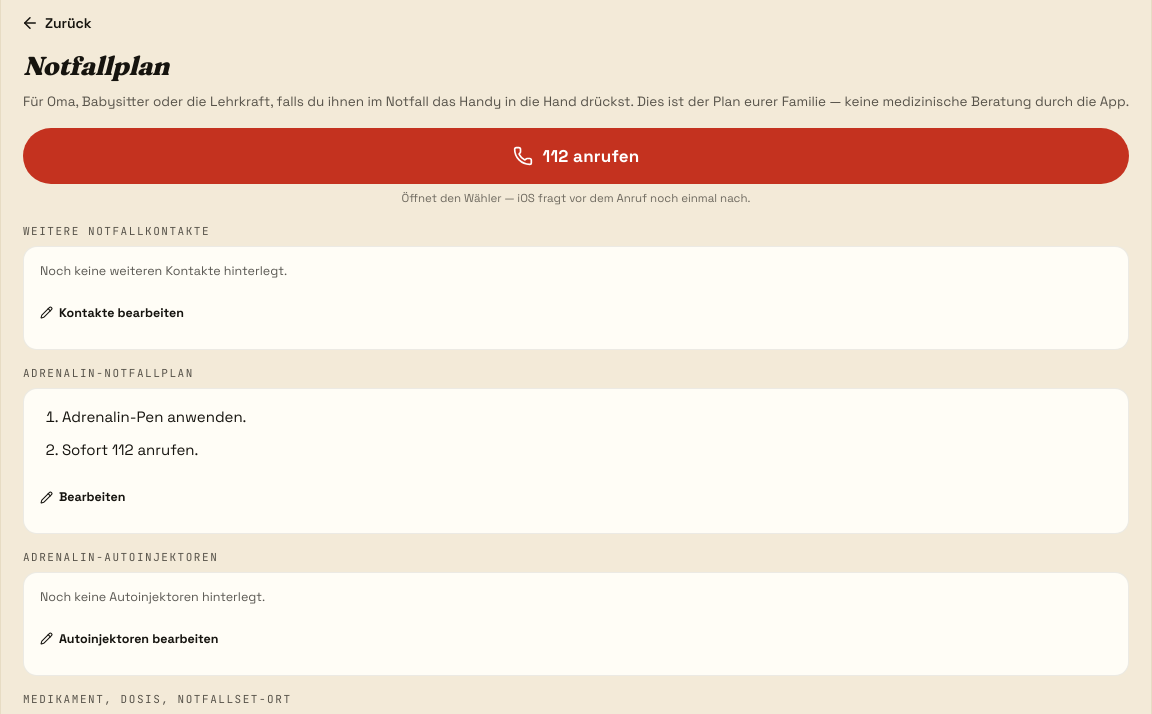
Scenario: EmergencyScreen (F4) › 'Vorlage einsetzen' resets the draft back to the default template
The width and height of the screenshot is (1152, 714).
Click the button with aria-label "Notfallplan bearbeiten" at {"x": 83, "y": 497}, box 40,475 -> 126,519
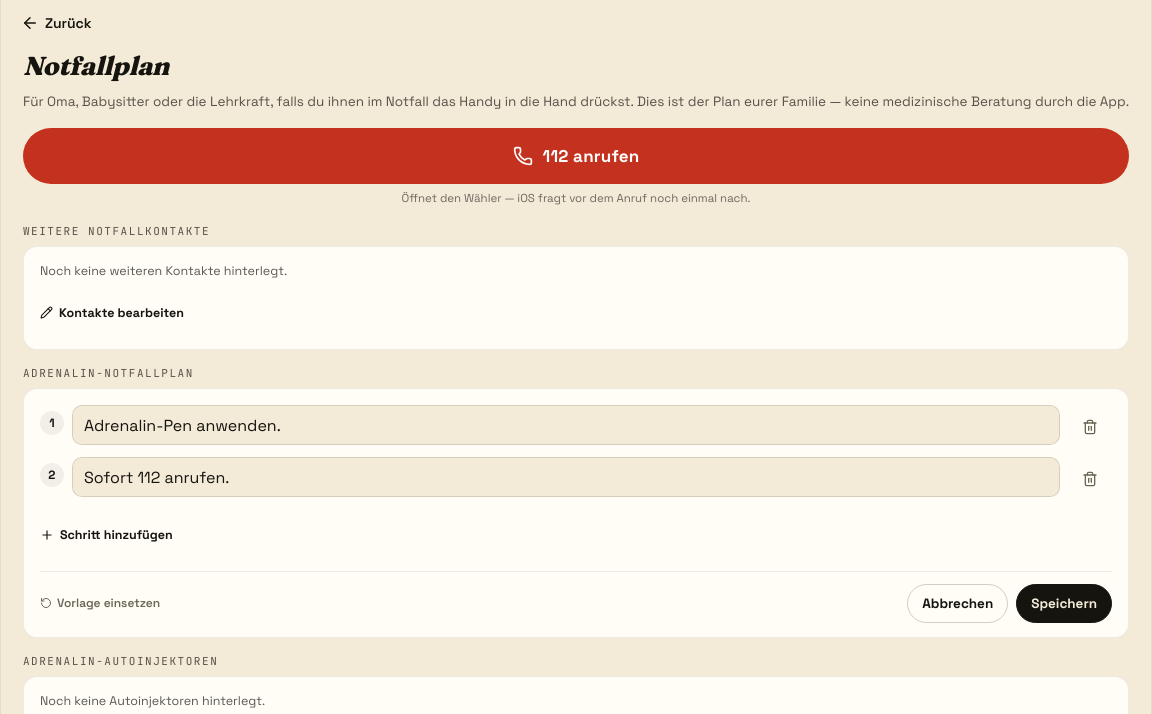
Click the button "Vorlage einsetzen" at {"x": 100, "y": 603}, box 40,589 -> 160,617
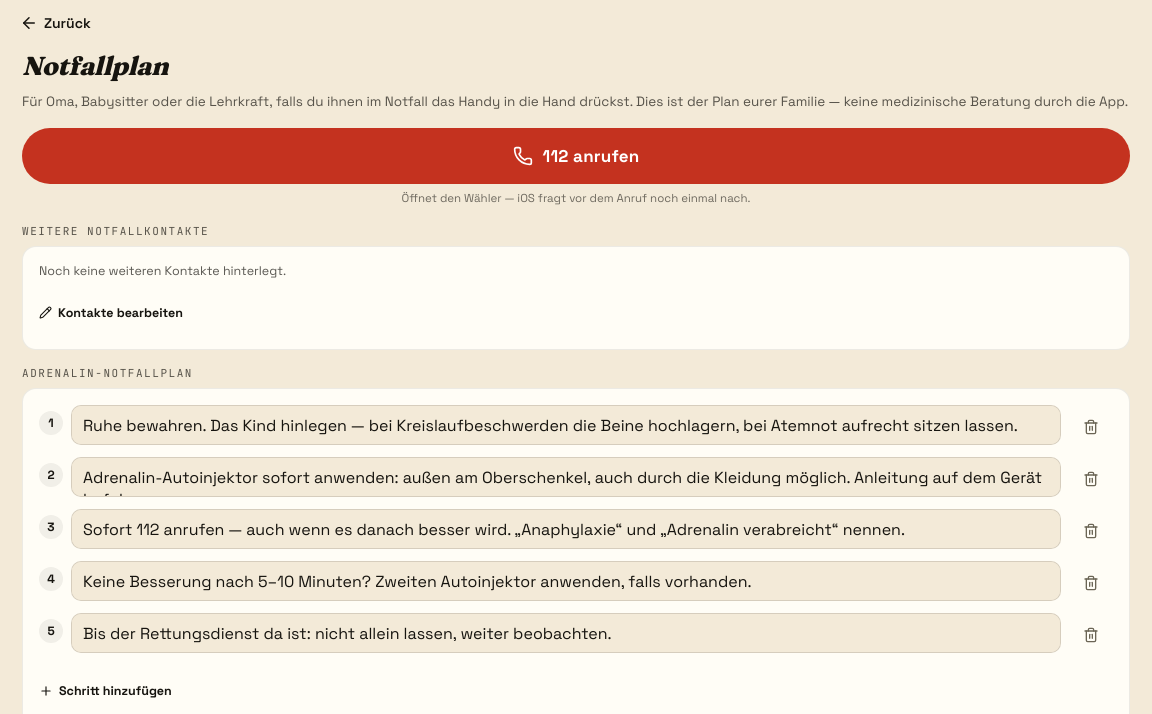
Result: the text box showing "Ruhe bewahren. Das Kind hinlegen — bei Kreislaufbeschwerden die Beine hochlagern, bei Atemnot aufrecht sitzen lassen." is shown at 71,405 -> 1061,445
